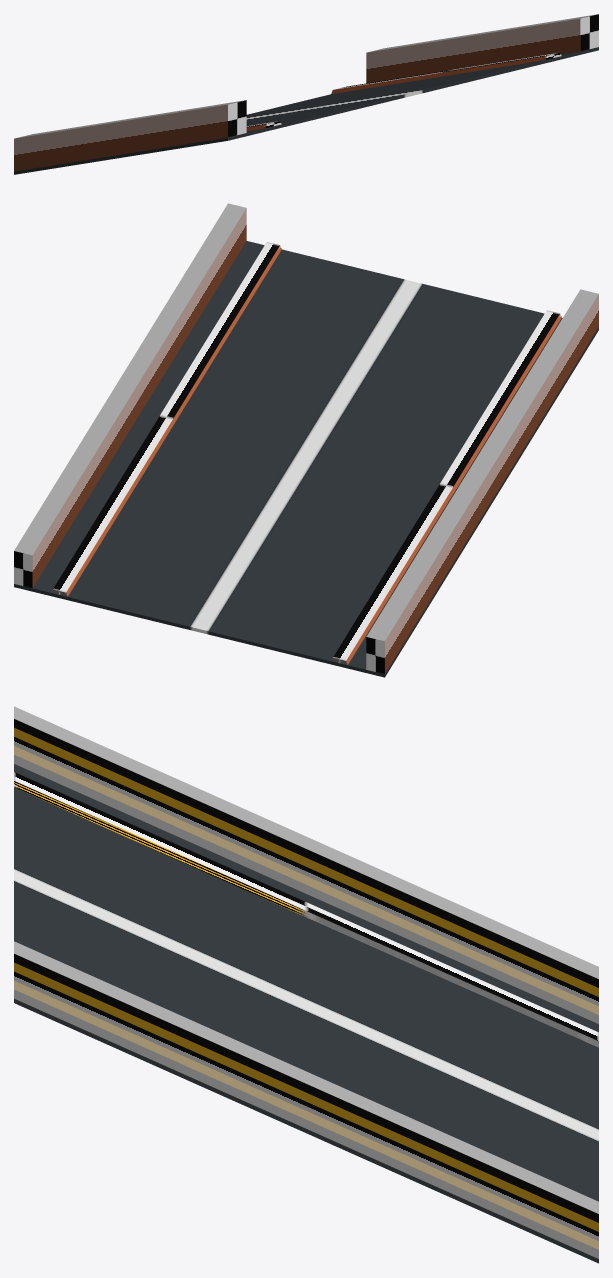
File: kartkids_base_trk_200_rmp_up_1x1_z0_to_z5.gltf
The picture shows the model from 3 angles, top to bottom: view 1: azimuth 30°, elevation 25°; view 2: azimuth 150°, elevation 25°; view 3: azimuth 270°, elevation 25°; orthographic projection. The views are drawn at different scales.
Parts seen in each view (by area): view 1: kartkids_base_trk_200_rmp_up_1x1_z0_to_z5.001, kartkids_base_trk_200_rmp_up_1x1_z0_to_z5; view 2: kartkids_base_trk_200_rmp_up_1x1_z0_to_z5, kartkids_base_trk_200_rmp_up_1x1_z0_to_z5.001; view 3: kartkids_base_trk_200_rmp_up_1x1_z0_to_z5, kartkids_base_trk_200_rmp_up_1x1_z0_to_z5.001.
Part boxes in pixels (left/top/right/bottom): kartkids_base_trk_200_rmp_up_1x1_z0_to_z5.001: left=14, top=14, right=598, bottom=171; kartkids_base_trk_200_rmp_up_1x1_z0_to_z5: left=14, top=47, right=598, bottom=174; kartkids_base_trk_200_rmp_up_1x1_z0_to_z5: left=14, top=241, right=598, bottom=677; kartkids_base_trk_200_rmp_up_1x1_z0_to_z5.001: left=14, top=203, right=598, bottom=674; kartkids_base_trk_200_rmp_up_1x1_z0_to_z5: left=14, top=764, right=598, bottom=1263; kartkids_base_trk_200_rmp_up_1x1_z0_to_z5.001: left=14, top=706, right=598, bottom=1258.
Size of the model in its own units: 10 by 5.85 by 10.
Materials: 2 (2 with a texture image).
